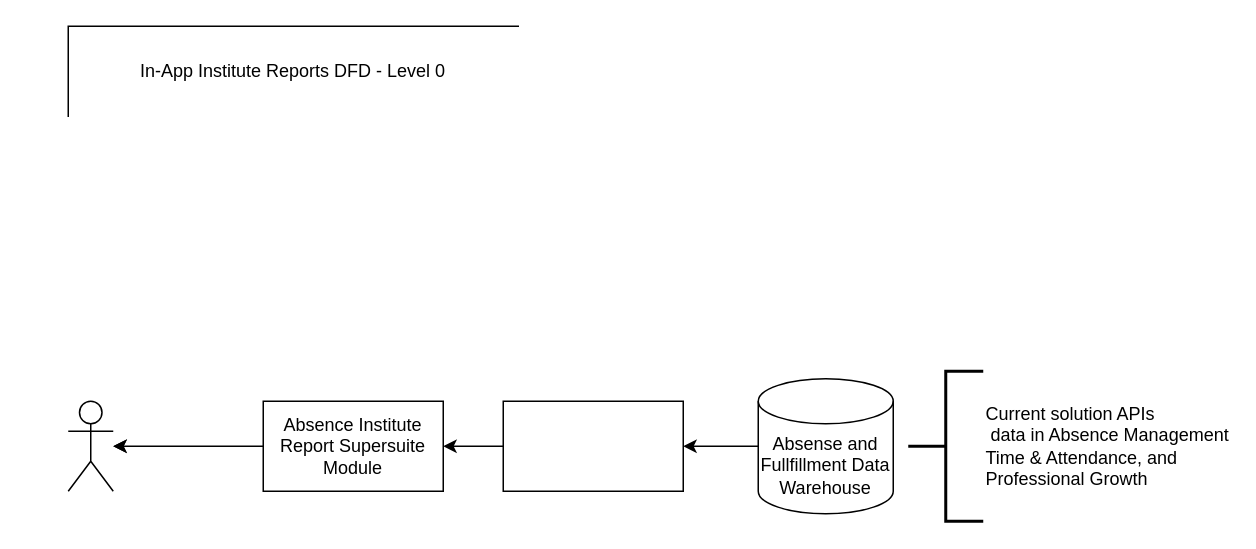
This 1256x549 diagram has some shape labels left out. Here are the shapes that lost their labels. From the top down, the centre of each, then its label:
the point at 90,445: Authorized User
the point at 592,445: Absence Institute API
